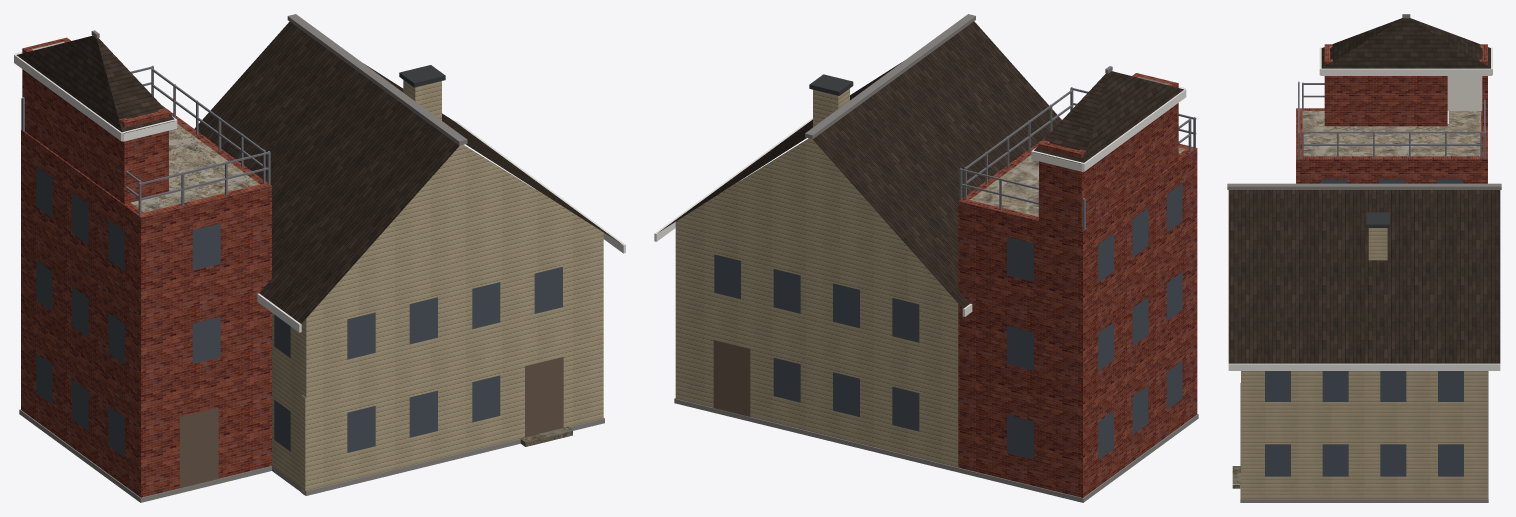
File: ns-cottage-tower.zfix-v22.lod1.glb
3 renders of one model, left to right at view 1: azimuth 30°, elevation 25°; view 2: azimuth 150°, elevation 25°; view 3: azimuth 270°, elevation 25°, orthographic. The views are drawn at different scales.
Parts seen in each view (by area): view 1: ns-cottage-tower; view 2: ns-cottage-tower; view 3: ns-cottage-tower.
Boxes of the visible parts, <box> form: ns-cottage-tower: <box>14,14,625,502</box>; ns-cottage-tower: <box>654,14,1198,502</box>; ns-cottage-tower: <box>1227,14,1501,502</box>.
Size of the model in its own units: 15.03 by 13.31 by 10.
5 materials, 4 textured.
